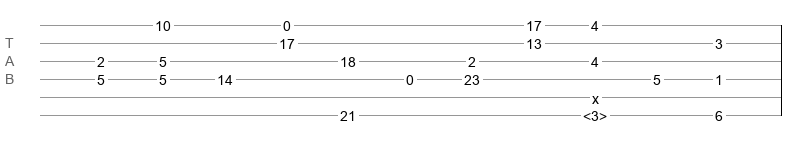0: (283, 18, 291, 28), (406, 72, 414, 82)
1: (715, 72, 723, 82)
10: (155, 18, 171, 28)
13: (526, 36, 542, 46)
14: (217, 72, 233, 82)
17: (279, 36, 295, 46), (526, 18, 542, 28)
18: (340, 54, 356, 64)
2: (97, 54, 105, 64), (468, 54, 476, 64)
21: (340, 108, 356, 118)
23: (464, 72, 480, 82)
3: (715, 36, 723, 46)
4: (591, 54, 599, 64), (591, 18, 599, 28)
5: (97, 72, 105, 82), (159, 72, 167, 82), (159, 54, 167, 64), (653, 72, 661, 82)
6: (715, 108, 723, 118)
harmonic: (583, 108, 607, 118)
x: (592, 91, 599, 99)
